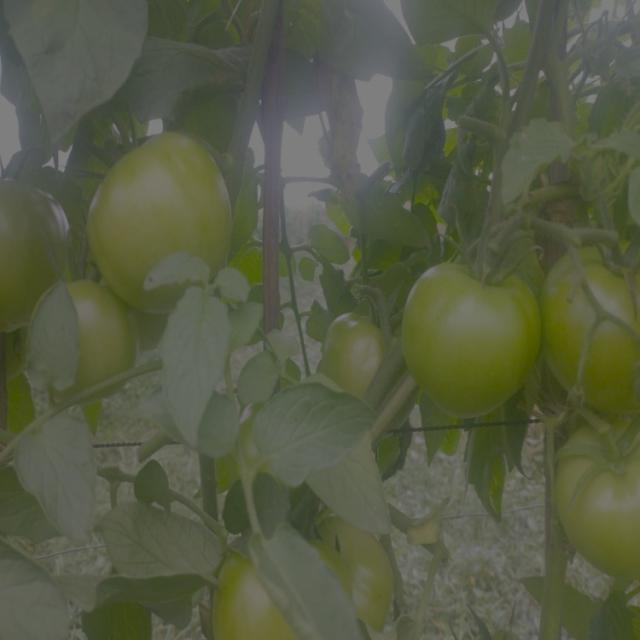tomato: (90, 120, 227, 305), (400, 242, 529, 412), (546, 232, 640, 408), (303, 512, 406, 639), (557, 424, 640, 580), (1, 174, 80, 330), (35, 278, 139, 385), (212, 539, 297, 640), (317, 306, 386, 412)
